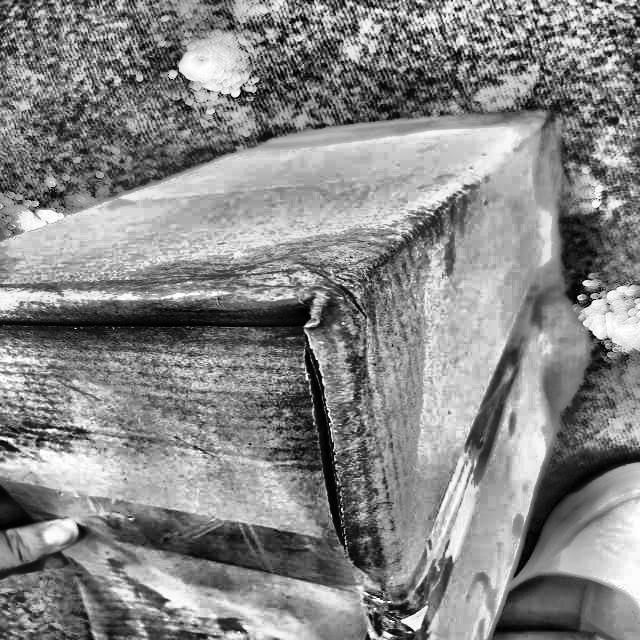box: (0, 102, 602, 639)
wet: (120, 232, 473, 570)
